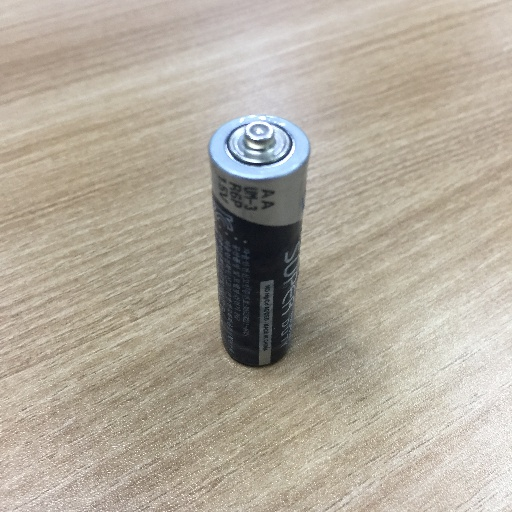Battery_0: (208, 105, 312, 376)
